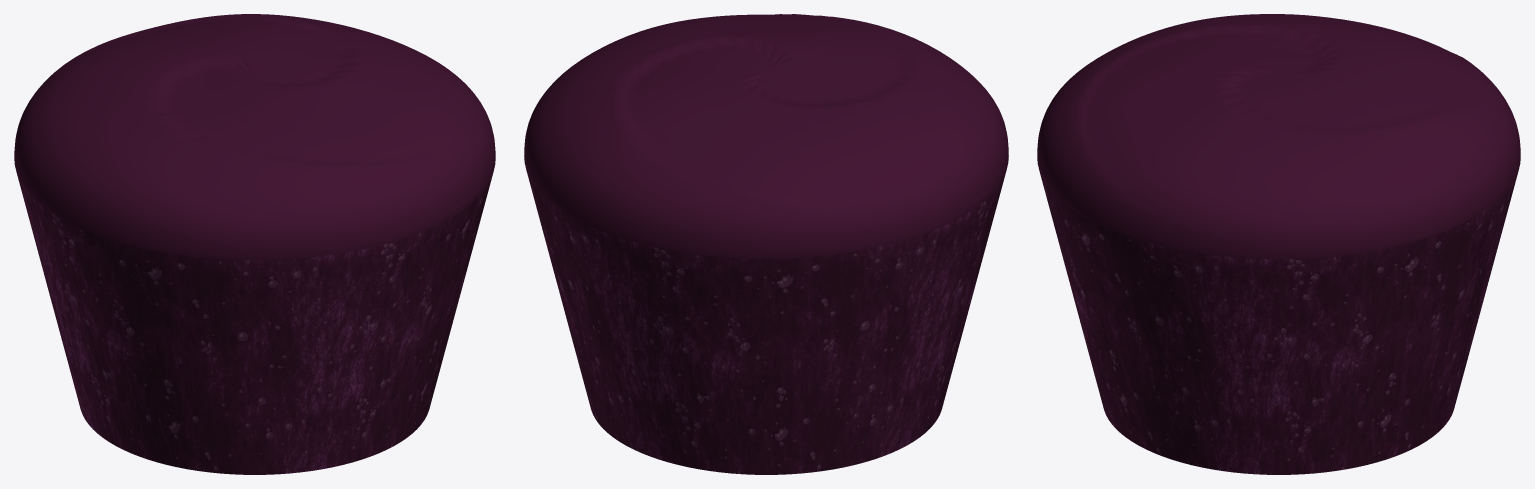
The model's file is base-acai-isopor-g.glb.
3 renders of one model, left to right at view 1: azimuth 30°, elevation 25°; view 2: azimuth 150°, elevation 25°; view 3: azimuth 270°, elevation 25°, orthographic.
Parts seen in each view (by area): view 1: base-acai-isopor-g; view 2: base-acai-isopor-g; view 3: base-acai-isopor-g.
Boxes of the visible parts, x1,y1,x2,y2 form: base-acai-isopor-g: (14, 14, 495, 474); base-acai-isopor-g: (524, 14, 1008, 474); base-acai-isopor-g: (1037, 14, 1520, 474).
Size of the model in its own units: 0.1275 by 0.0961 by 0.1275.
Materials: 2 (1 with a texture image).
